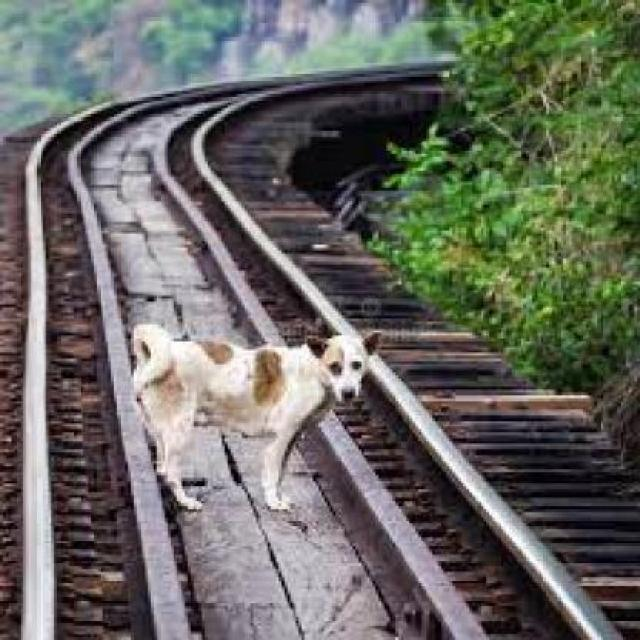danger: (116, 321, 378, 521)
rail: (11, 50, 640, 640)
